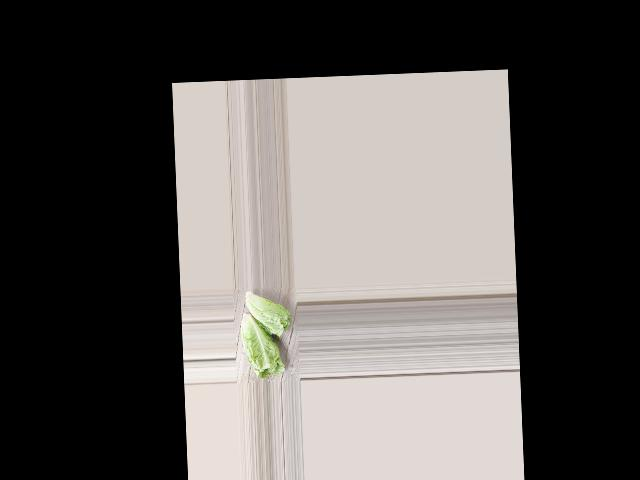lettuce: (242, 286, 295, 339)
